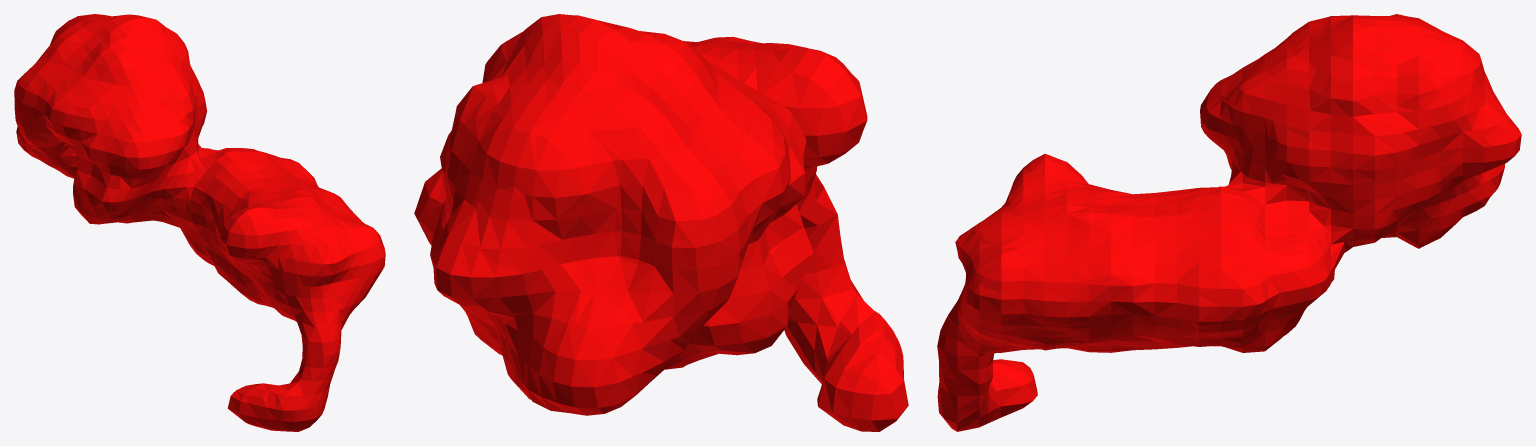
File: glmU_coarse.dae
3 renders of one model, left to right at view 1: azimuth 30°, elevation 25°; view 2: azimuth 150°, elevation 25°; view 3: azimuth 270°, elevation 25°, orthographic. The views are drawn at different scales.
Parts seen in each view (by area): view 1: glmU; view 2: glmU; view 3: glmU.
Part boxes in pixels (x1,y1,x2,y2): glmU: [14, 14, 385, 431]; glmU: [414, 14, 908, 431]; glmU: [937, 14, 1521, 431].
Size of the model in its own units: 58.87 by 77.8 by 103.
